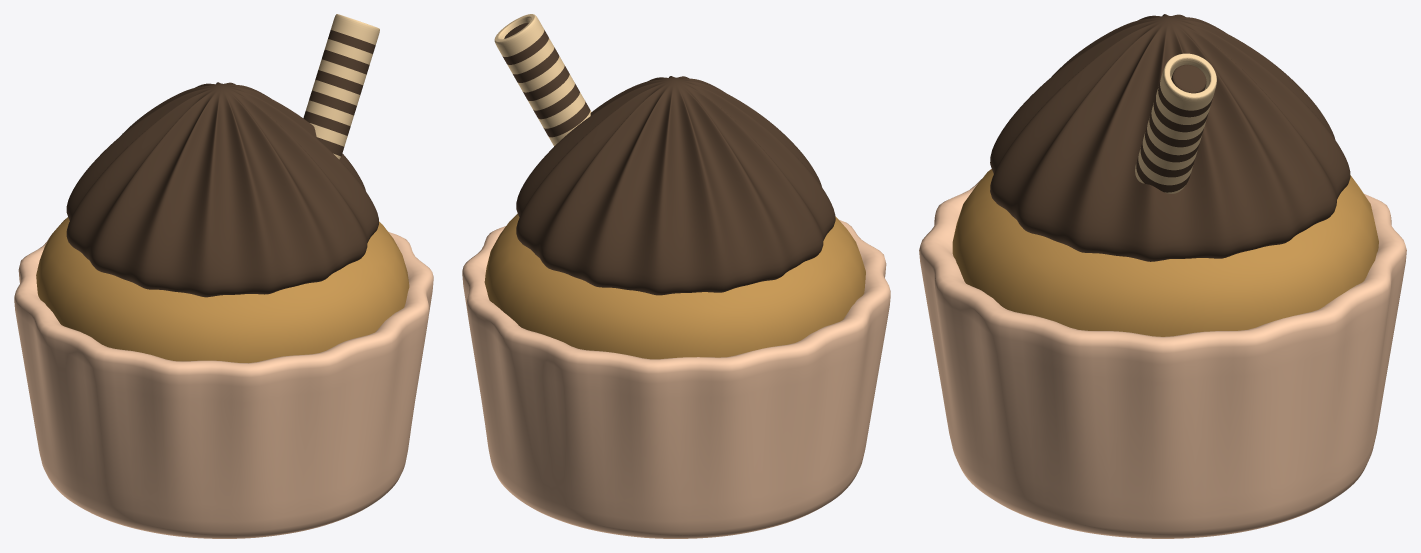
Rendered from VanillaCupcake.fbx.
The picture shows the model from 3 angles, left to right: view 1: azimuth 30°, elevation 25°; view 2: azimuth 150°, elevation 25°; view 3: azimuth 270°, elevation 25°; orthographic projection. The views are drawn at different scales.
Visible parts, largest first — view 1: VanillaCupcake-Wrapper, VanillaCupcake-ChocolateCream, VanillaCupcake, VanillaCupcake-WaferRolls; view 2: VanillaCupcake-Wrapper, VanillaCupcake-ChocolateCream, VanillaCupcake, VanillaCupcake-WaferRolls; view 3: VanillaCupcake-Wrapper, VanillaCupcake-ChocolateCream, VanillaCupcake, VanillaCupcake-WaferRolls.
Part boxes in pixels (<box>): VanillaCupcake-Wrapper: <box>14,232,433,538</box>; VanillaCupcake-ChocolateCream: <box>66,82,378,297</box>; VanillaCupcake: <box>36,217,409,363</box>; VanillaCupcake-WaferRolls: <box>303,14,379,159</box>; VanillaCupcake-Wrapper: <box>462,220,890,538</box>; VanillaCupcake-ChocolateCream: <box>516,76,835,295</box>; VanillaCupcake: <box>484,213,865,359</box>; VanillaCupcake-WaferRolls: <box>494,14,591,146</box>; VanillaCupcake-Wrapper: <box>919,179,1406,538</box>; VanillaCupcake-ChocolateCream: <box>990,14,1350,261</box>; VanillaCupcake: <box>952,169,1378,336</box>; VanillaCupcake-WaferRolls: <box>1135,53,1216,193</box>.
Size of the model in its own units: 40.29 by 43.47 by 40.29.
